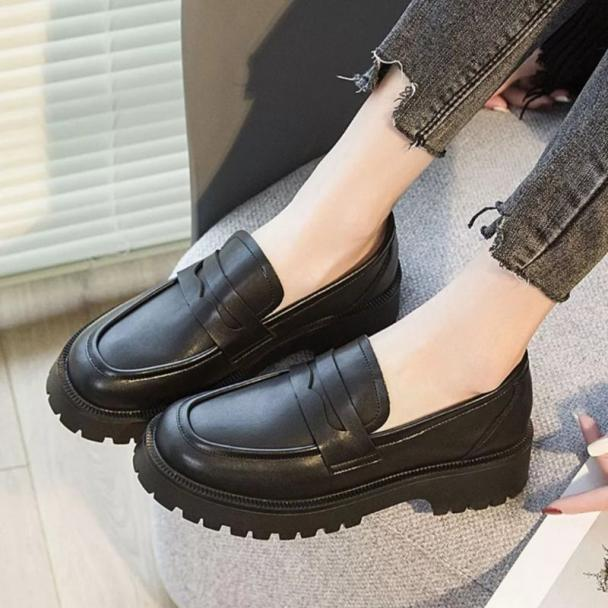Sepatu: (143, 324, 556, 535)
